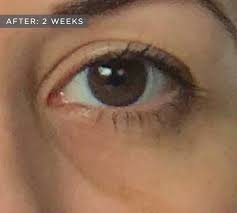pupil: (88, 57, 147, 105)
